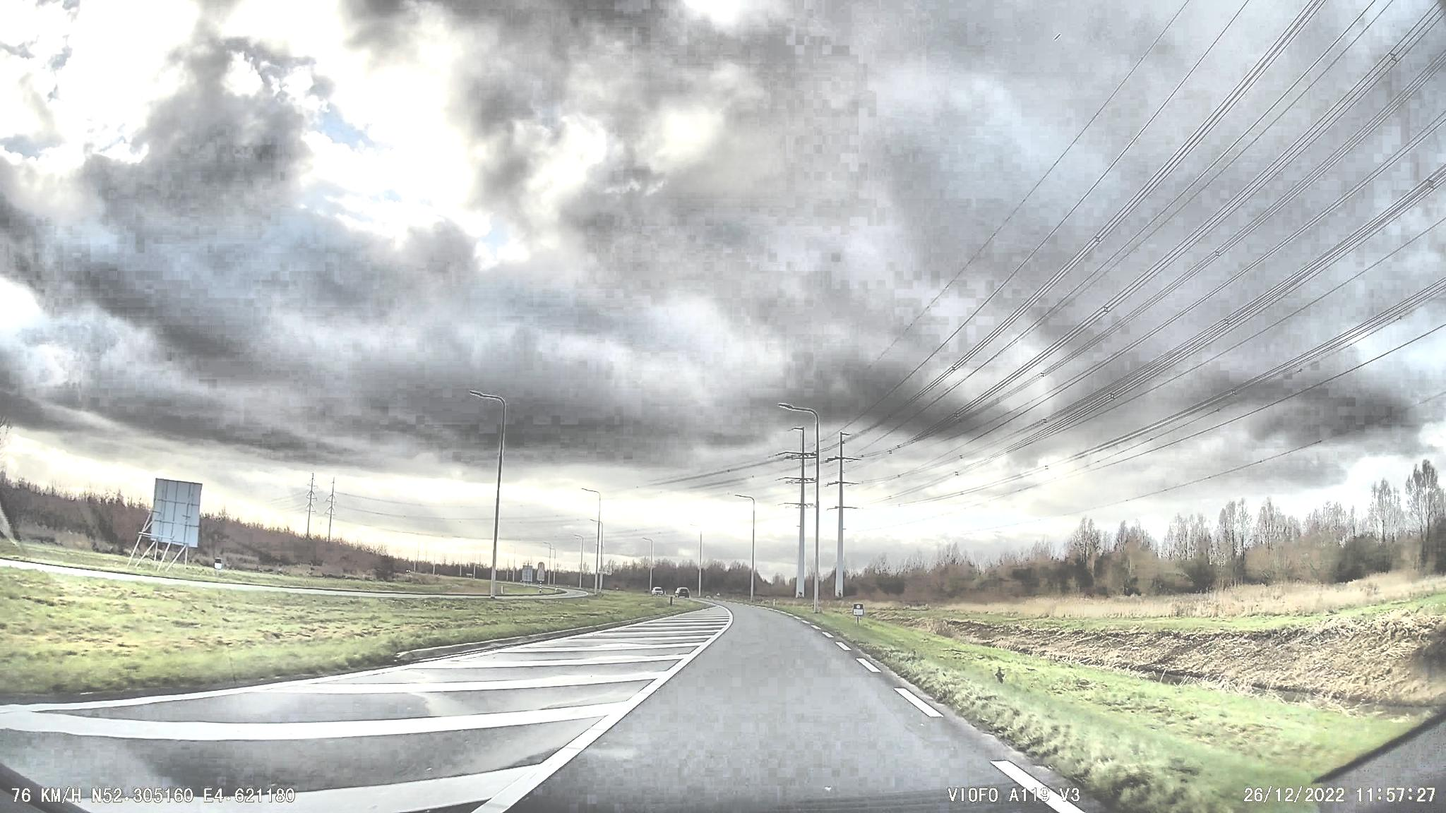Roads: (0, 604, 1114, 813)
